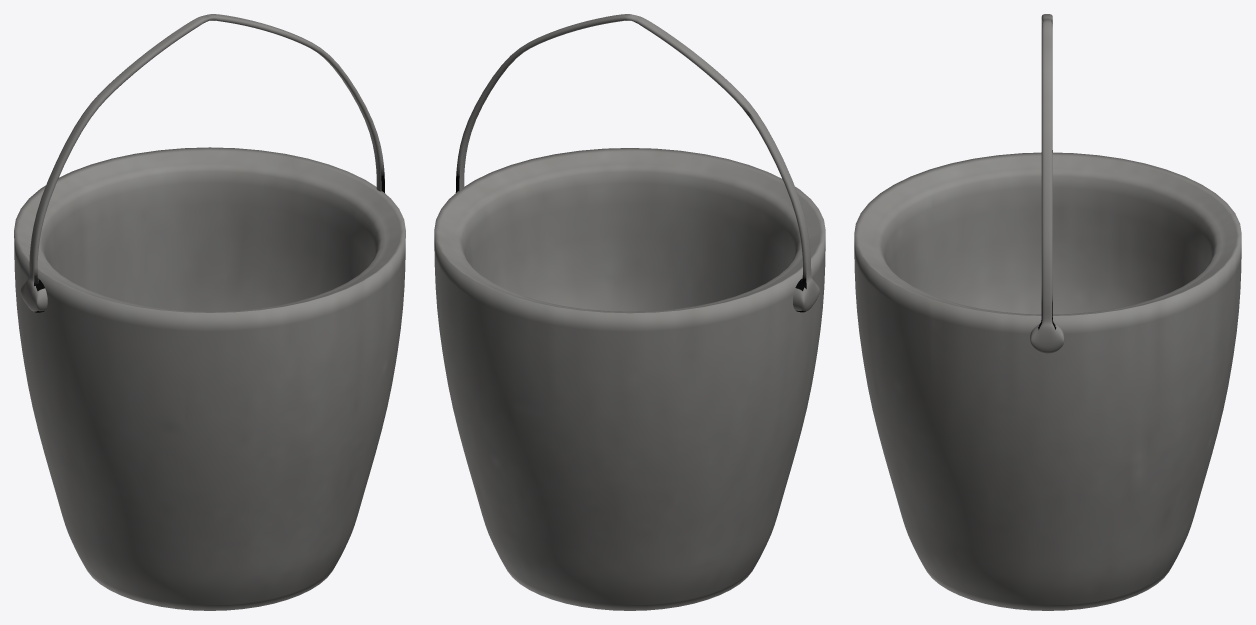
Rendered from Balde.fbx.
3 views of the same model, side by side, from view 1: azimuth 30°, elevation 25°; view 2: azimuth 150°, elevation 25°; view 3: azimuth 270°, elevation 25° (orthographic).
Visible parts, largest first — view 1: Balde_LOD0; view 2: Balde_LOD0; view 3: Balde_LOD0.
Boxes of the visible parts, <box> form: Balde_LOD0: <box>14,14,405,610</box>; Balde_LOD0: <box>434,14,825,610</box>; Balde_LOD0: <box>854,14,1241,610</box>.
Size of what is drawn, in the model's own units: 48.22 by 69.88 by 45.74.
